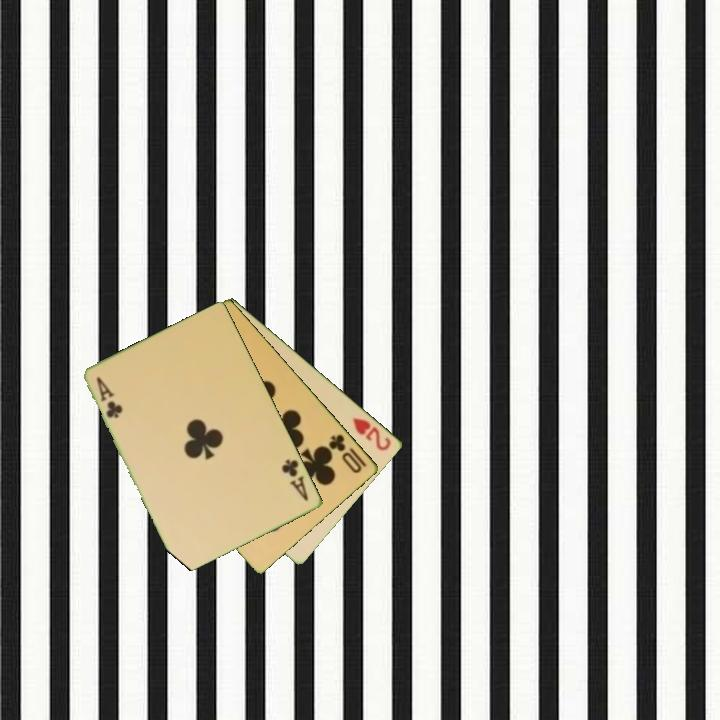10c: (325, 431, 370, 476)
2h: (349, 414, 394, 454)
Ac: (278, 456, 312, 504), (93, 373, 126, 421)
